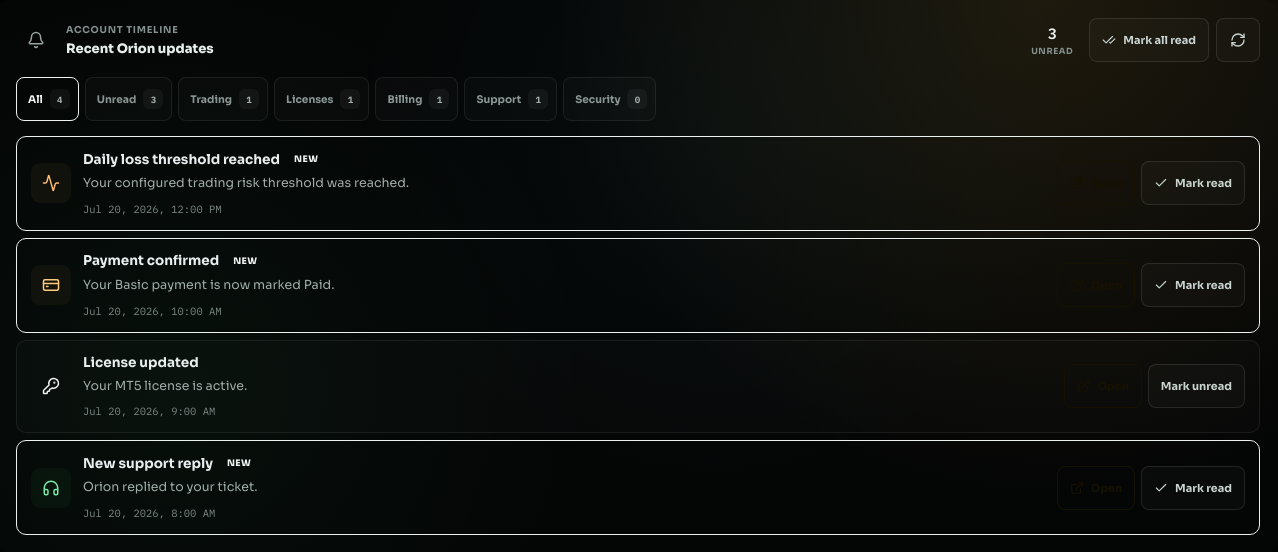
Test: Portal Notification Center › filters trading alerts into their own Activity-styled category
The width and height of the screenshot is (1278, 552).
Click the button "Trading 1". click: (223, 99)
box: 178,77 -> 268,121
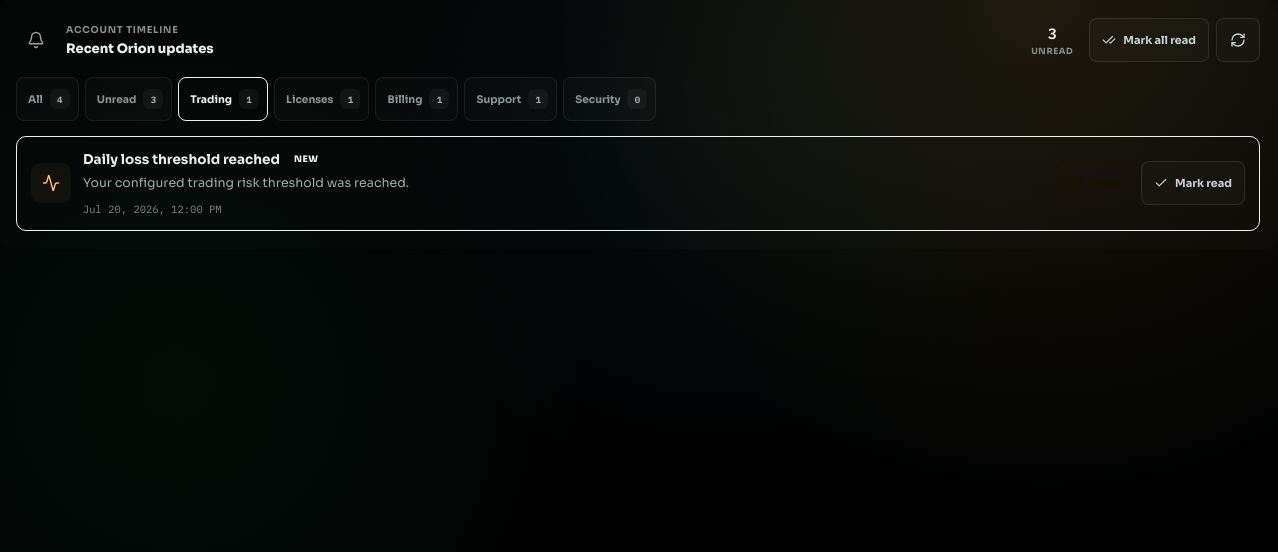
Expected: the icon with class "lucide-activity" is shown, 42,174 -> 60,192
Expected: the text "Payment confirmed" is gone
